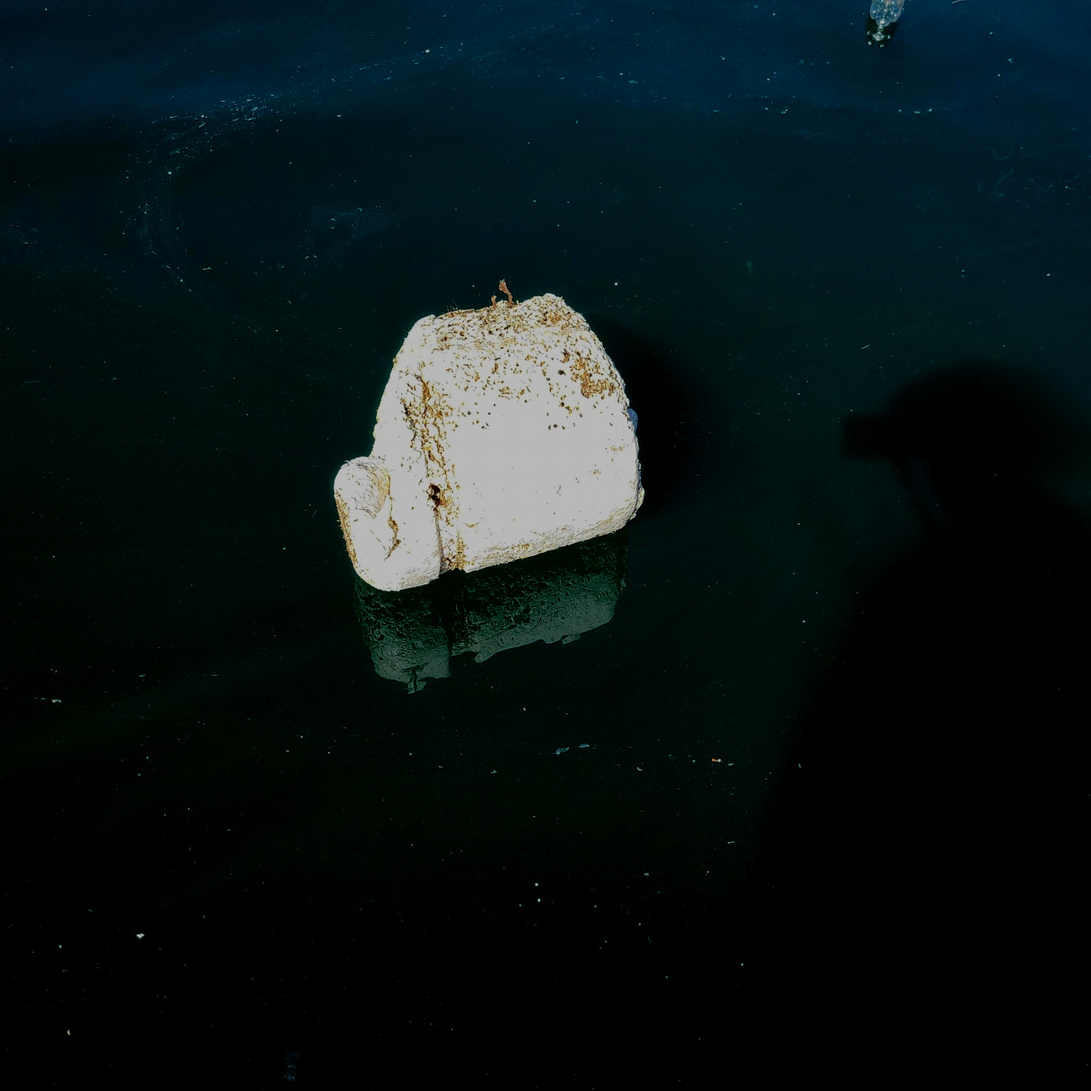sampah_terapung: (333, 294, 646, 592), (870, 2, 903, 28)
